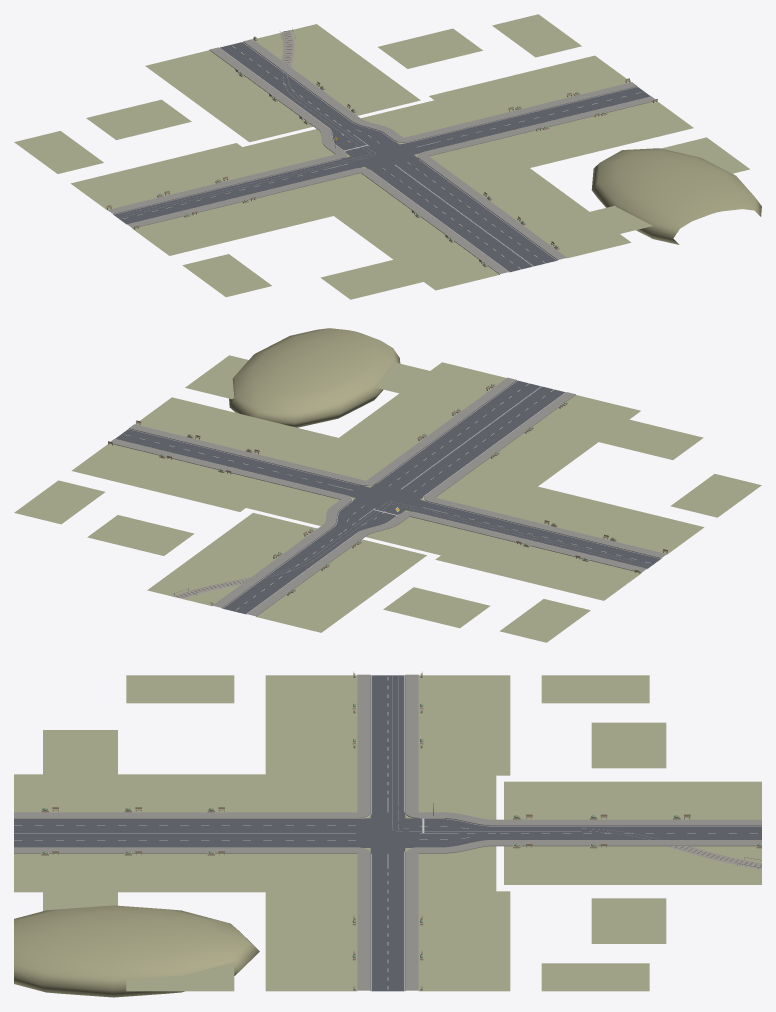
3 renders of one model, top to bottom at view 1: azimuth 30°, elevation 25°; view 2: azimuth 150°, elevation 25°; view 3: azimuth 270°, elevation 25°, orthographic. The views are drawn at different scales.
Parts seen in each view (by area): view 1: static; view 2: static; view 3: static.
Part boxes in pixels (x1,y1,x2,y2): static: (14,14,761,299); static: (14,328,761,642); static: (14,671,761,997).
Size of what is drawn, in the model's own units: 180 by 14.08 by 180.
3 materials, 2 textured.
